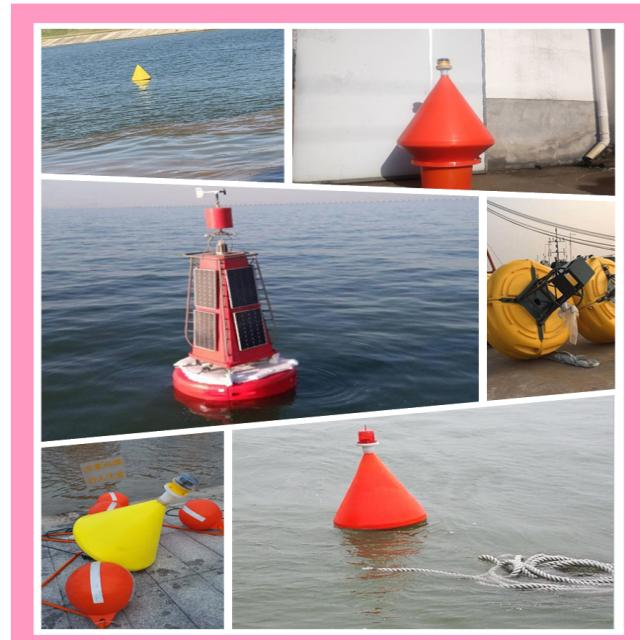buoy: (161, 185, 306, 408), (400, 53, 506, 190), (76, 469, 197, 570), (326, 427, 420, 535), (126, 63, 158, 89)
